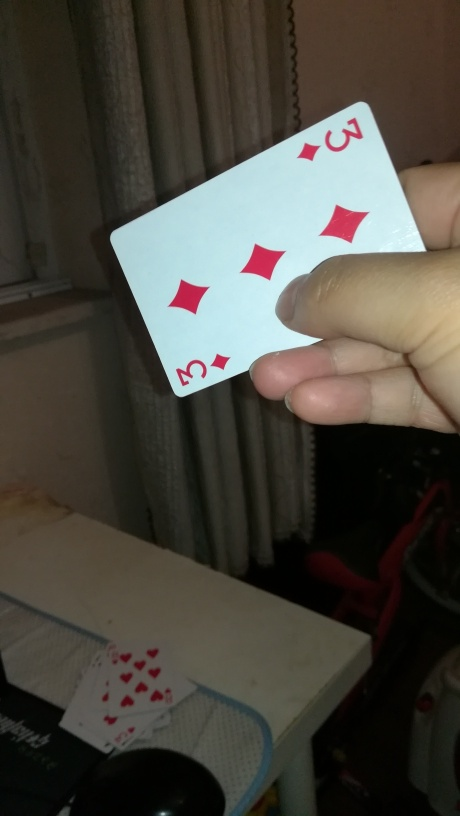fk 3: (108, 97, 433, 401)
